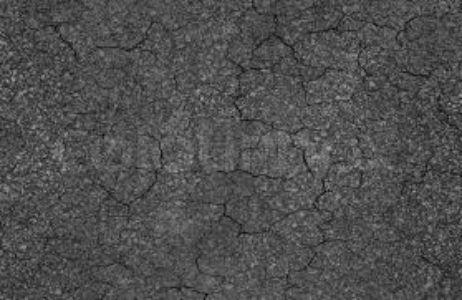alligator-crack: (1, 3, 462, 300)
